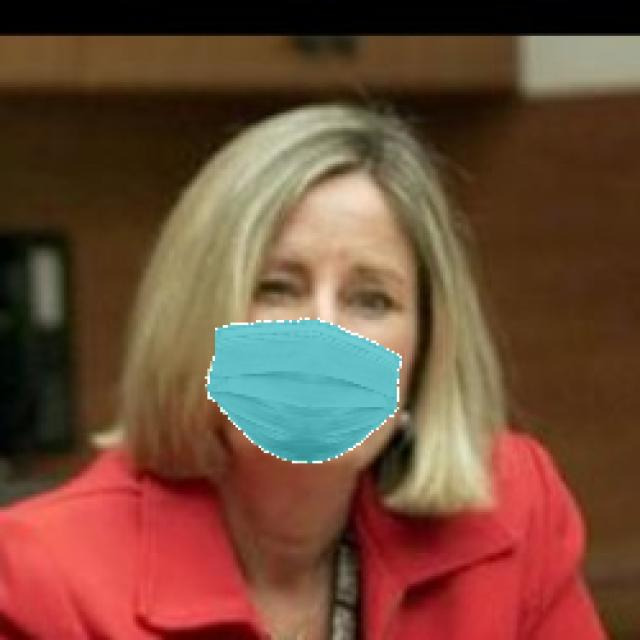mask: (195, 306, 409, 472)
